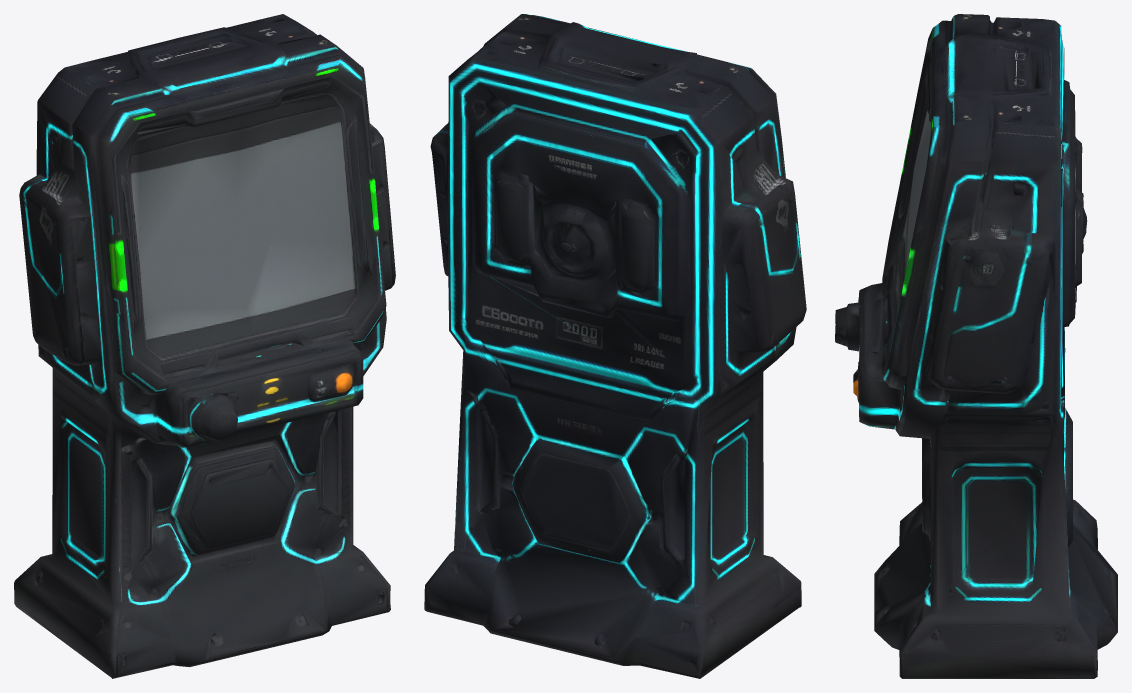
The picture shows the model from 3 angles, left to right: view 1: azimuth 30°, elevation 25°; view 2: azimuth 150°, elevation 25°; view 3: azimuth 270°, elevation 25°; orthographic projection.
Bounding box in the file's own units: 1.17 × 1.9 × 0.8873.
1 material, 1 textured.
